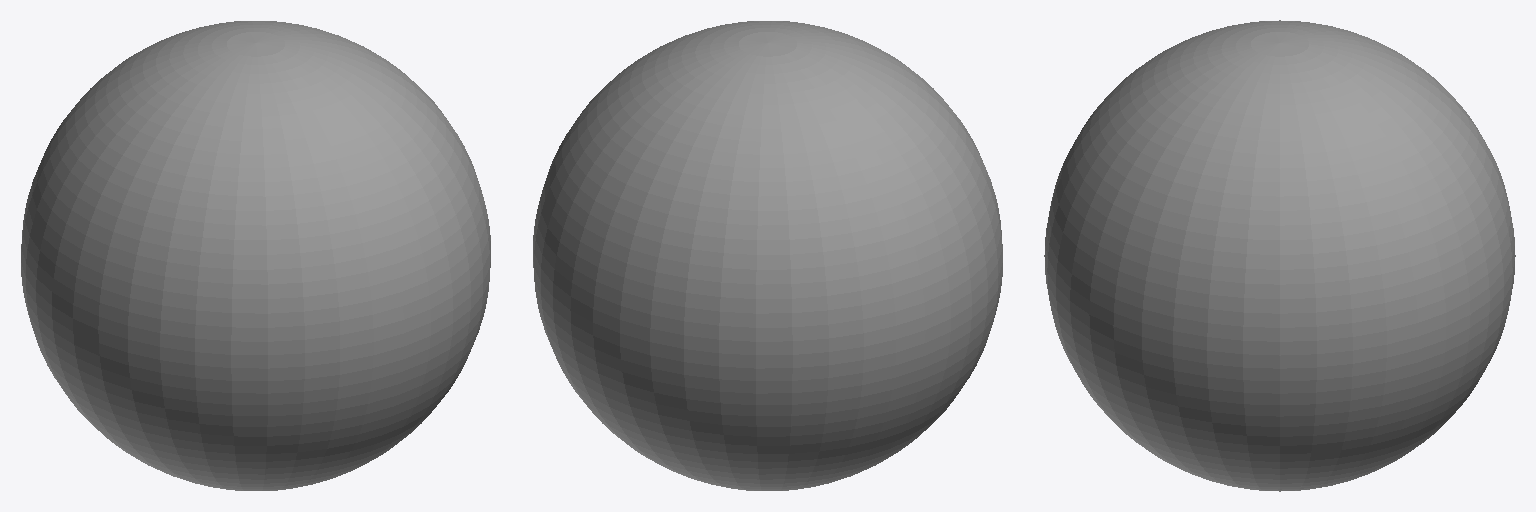
File: sun.obj
The picture shows the model from 3 angles: view 1: azimuth 30°, elevation 25°; view 2: azimuth 150°, elevation 25°; view 3: azimuth 270°, elevation 25°; orthographic projection.
Parts seen in each view (by area): view 1: Sphere; view 2: Sphere; view 3: Sphere.
Part boxes in pixels (left/top/right/bottom): Sphere: left=21, top=21, right=490, bottom=490; Sphere: left=533, top=21, right=1002, bottom=490; Sphere: left=1044, top=20, right=1515, bottom=491.
Bounding box in the file's own units: 2 × 2 × 2.